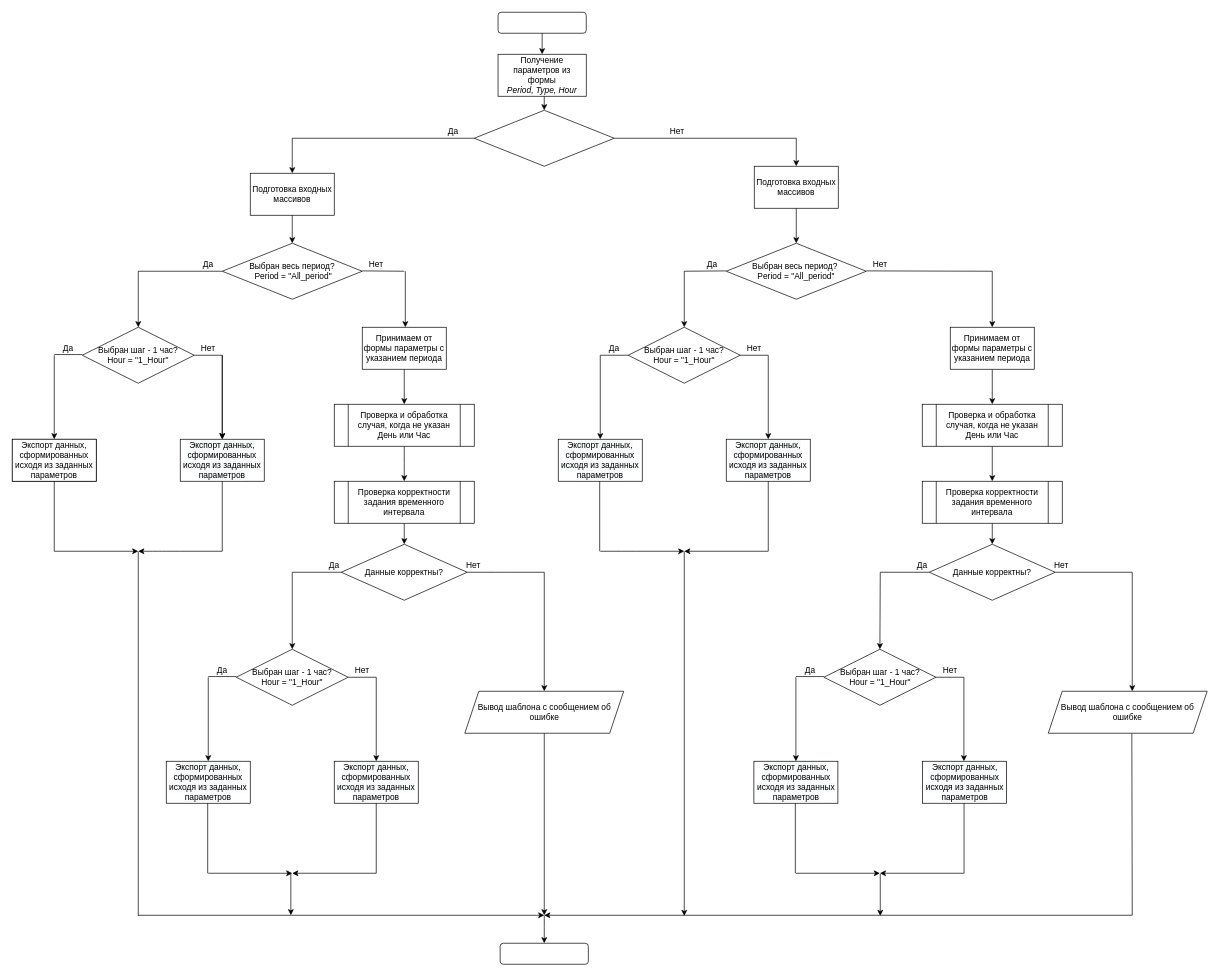
This 1219x977 diagram has some shape labels left out. The shapes that lost their labels are listed below. From the top down, each one's centre as x and y in pixels, then its label:
the point at 541,22: Начало
the point at 544,138: Выбрана линейная интерполяция? Type = "Type_lin"
the point at 543,953: Выход
